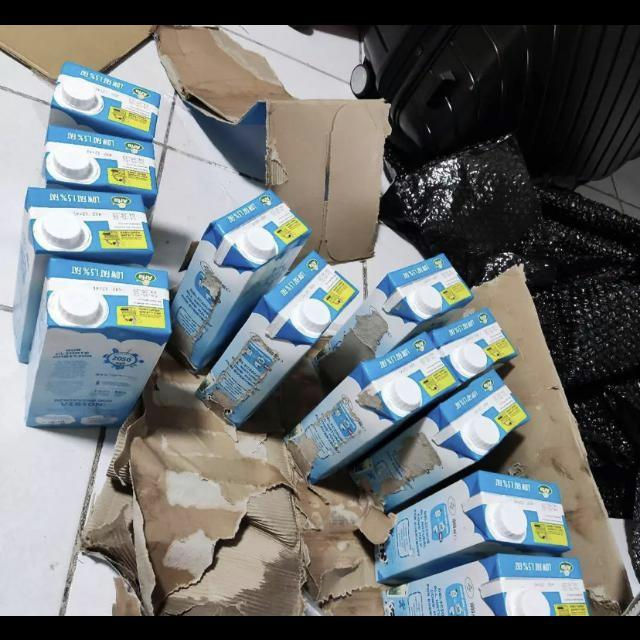cardboard: (83, 353, 396, 615), (155, 24, 392, 264)
